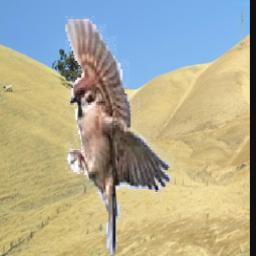Sparrow: (65, 17, 174, 256)
